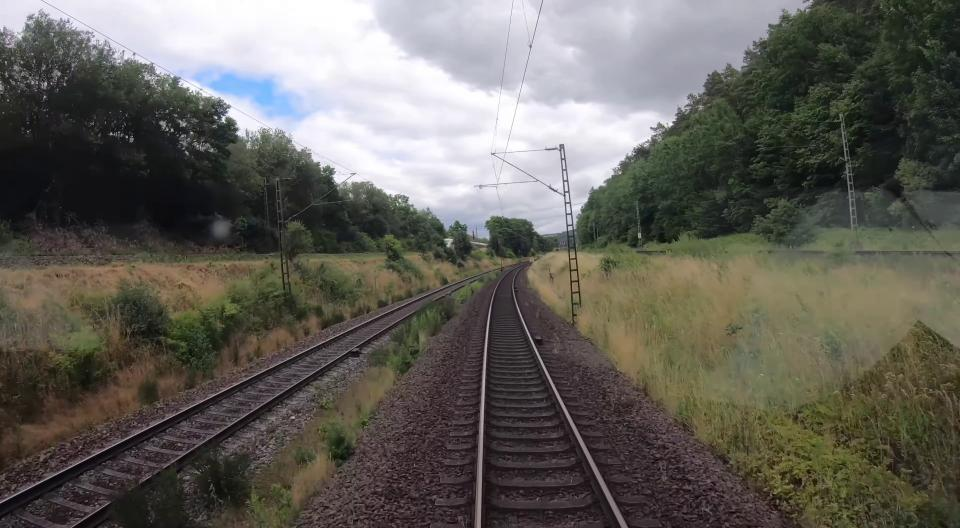Plant: (252, 273, 497, 528), (112, 470, 189, 528), (194, 446, 250, 511)
